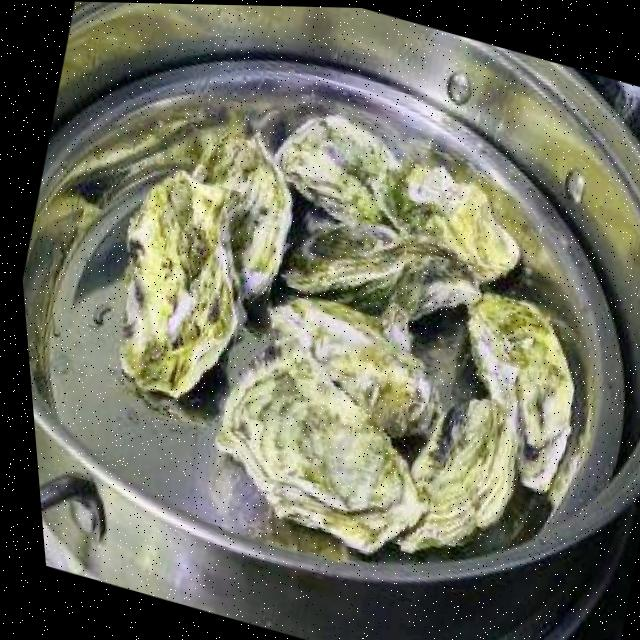Oyster-Closed: (263, 196, 499, 348)
Oyster-Indeterminate: (189, 333, 464, 569), (76, 159, 278, 423), (422, 281, 611, 511), (243, 278, 465, 448), (153, 101, 323, 310), (380, 379, 538, 582), (354, 149, 540, 292), (261, 100, 424, 240)
